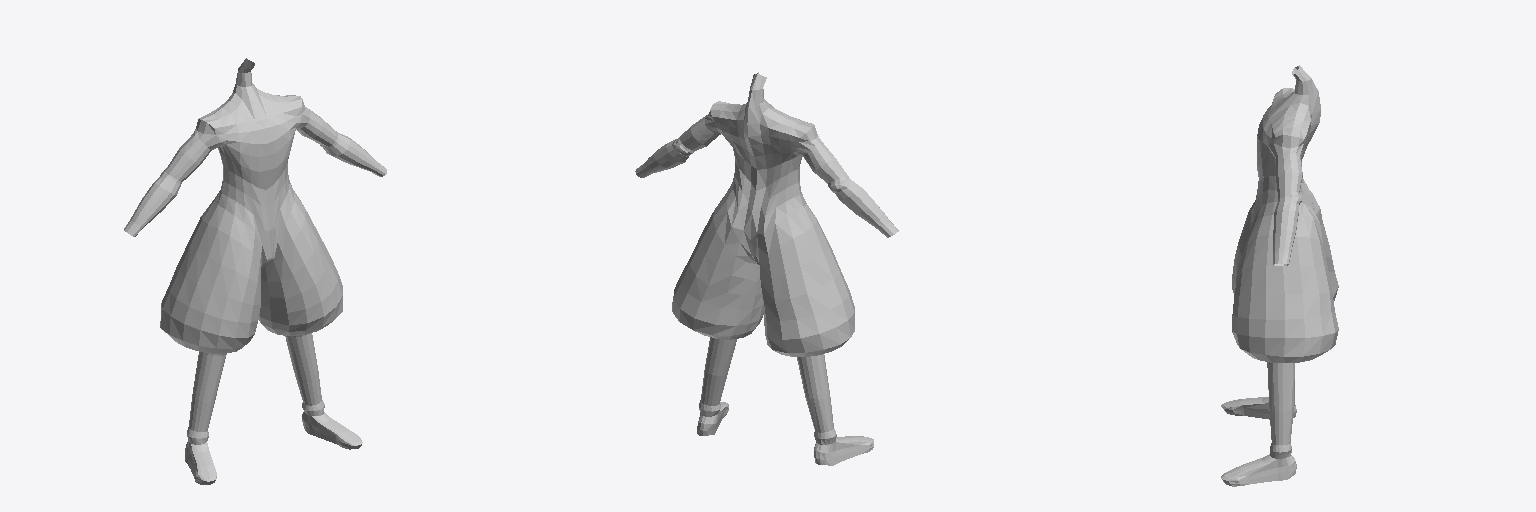
The picture shows the model from 3 angles: view 1: azimuth 30°, elevation 25°; view 2: azimuth 150°, elevation 25°; view 3: azimuth 270°, elevation 25°; orthographic projection.
Visible parts, largest first — view 1: polySurface19 base_Mesh, base_Mesh polySurface20; view 2: polySurface19 base_Mesh, base_Mesh polySurface20; view 3: polySurface19 base_Mesh, base_Mesh polySurface20.
Part boxes in pixels (bbox=[...]): polySurface19 base_Mesh: bbox=[124, 58, 386, 353]; base_Mesh polySurface20: bbox=[185, 333, 362, 484]; polySurface19 base_Mesh: bbox=[635, 72, 898, 356]; base_Mesh polySurface20: bbox=[697, 337, 873, 465]; polySurface19 base_Mesh: bbox=[1232, 65, 1338, 362]; base_Mesh polySurface20: bbox=[1221, 362, 1296, 486].
Bounding box in the file's own units: 110 × 154 × 42.94.